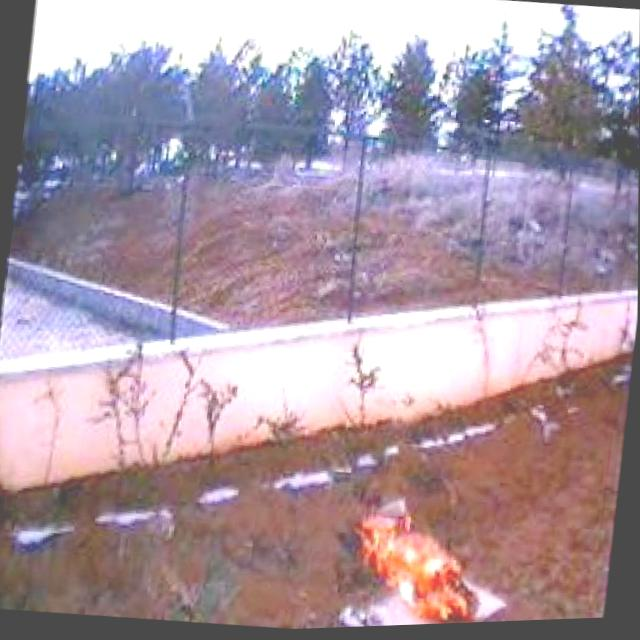helmet: (353, 514, 487, 630)
